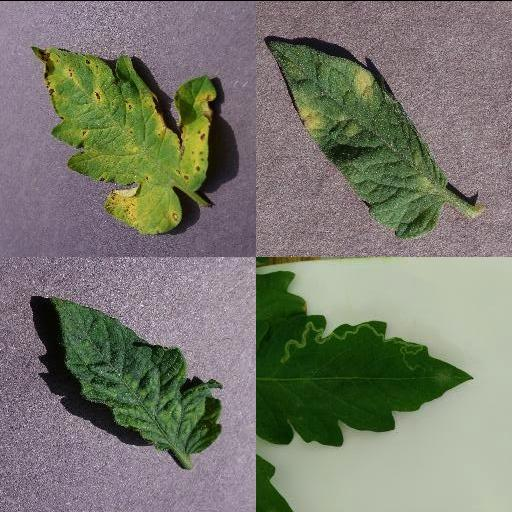Leaf Miner: (256, 315, 475, 447)
Leaf Mold: (266, 39, 448, 239)
Mosaic Virus: (50, 294, 226, 456)
Septoria: (33, 46, 219, 233)
